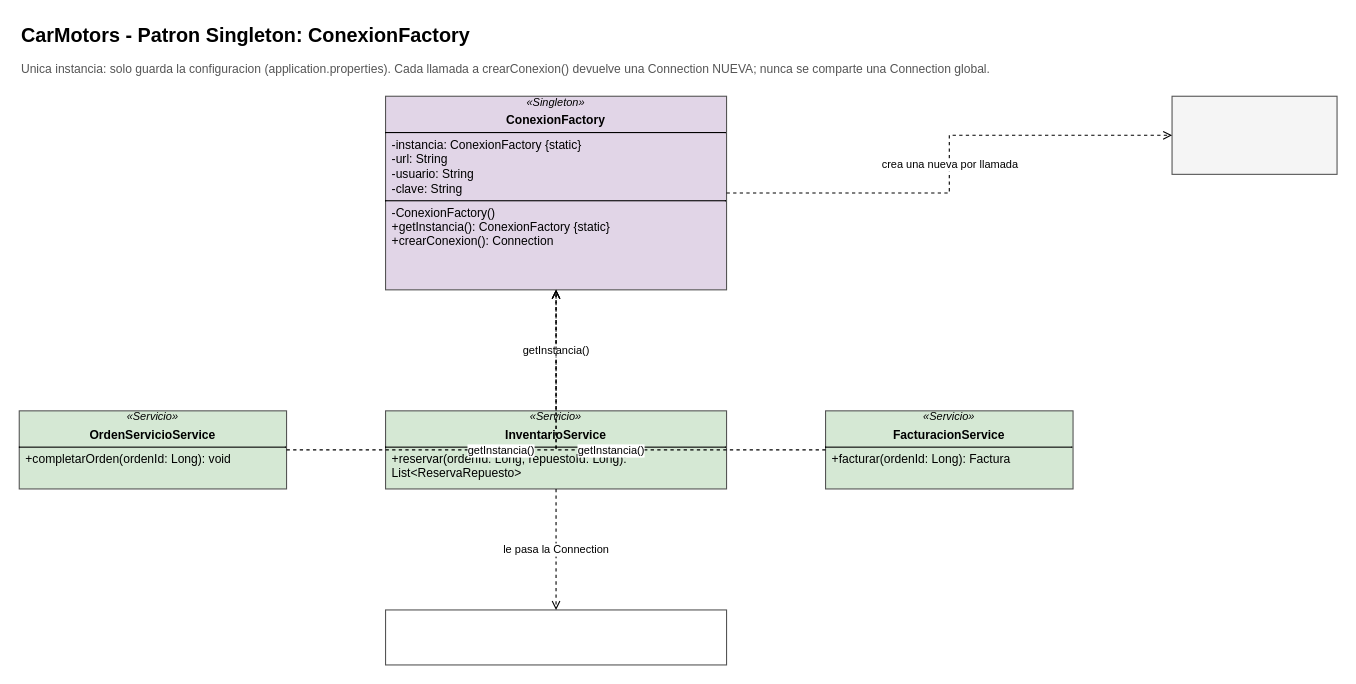
Image size: 1356x684. Some labels were removed from this diagram. Here are the shapes that lost their labels. From the top down, the centre of each, then its label:
At (x=1254, y=134): "«interface» Connection (java.sql)".
At (x=555, y=637): "«JDBC» LoteRepuestoDaoJdbc".
